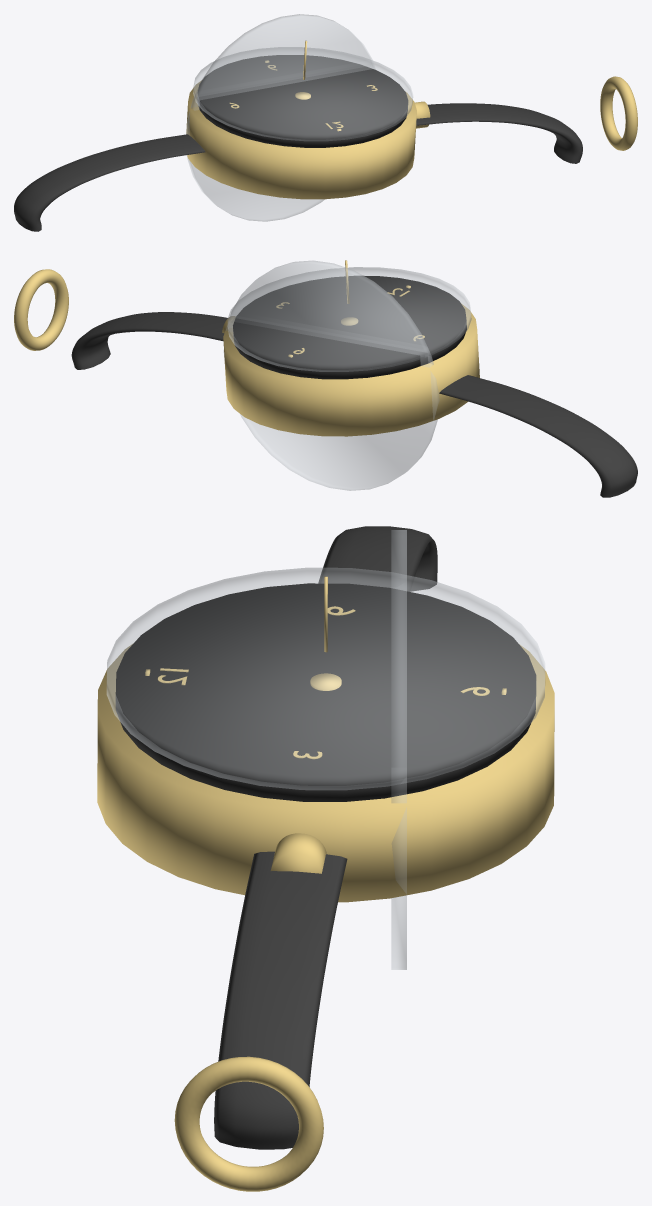
File: wristwatch_ar_classic_blue_rigged.glb
3 renders of one model, top to bottom at view 1: azimuth 30°, elevation 25°; view 2: azimuth 150°, elevation 25°; view 3: azimuth 270°, elevation 25°, orthographic. The views are drawn at different scales.
Visible parts, largest first — view 1: Watch_Dial, Watch_Glass.001, Watch_Case, Watch_Glass, Band_Left, Band_Right, Watch_Buckle; view 2: Watch_Glass, Watch_Dial, Watch_Case, Watch_Glass.001, Band_Left, Band_Right, Watch_Buckle; view 3: Watch_Glass.001, Watch_Dial, Watch_Case, Band_Right, Watch_Buckle, Watch_Glass, Band_Left, Watch_Crown.
Part boxes in pixels (left/top/right/bottom): Watch_Dial: left=197, top=55, right=408, bottom=147; Watch_Glass.001: left=193, top=47, right=413, bottom=141; Watch_Case: left=186, top=80, right=416, bottom=199; Watch_Glass: left=186, top=14, right=375, bottom=221; Band_Left: left=14, top=134, right=205, bottom=231; Band_Right: left=416, top=103, right=582, bottom=163; Watch_Buckle: left=600, top=76, right=637, bottom=150; Watch_Glass: left=223, top=260, right=439, bottom=490; Watch_Dial: left=233, top=276, right=466, bottom=379; Watch_Case: left=223, top=303, right=479, bottom=436; Watch_Glass.001: left=227, top=267, right=471, bottom=371; Band_Left: left=439, top=375, right=637, bottom=497; Band_Right: left=71, top=312, right=227, bottom=369; Watch_Buckle: left=14, top=269, right=68, bottom=350; Watch_Glass.001: left=106, top=567, right=545, bottom=790; Watch_Dial: left=115, top=583, right=536, bottom=801; Watch_Case: left=97, top=643, right=554, bottom=902; Band_Right: left=214, top=851, right=347, bottom=1149; Watch_Buckle: left=174, top=1056, right=323, bottom=1191; Watch_Glass: left=391, top=530, right=406, bottom=969; Band_Left: left=318, top=526, right=437, bottom=591; Watch_Crown: left=270, top=833, right=326, bottom=873.
Size of the model in its own units: 0.1272 by 0.0422 by 0.0438.
